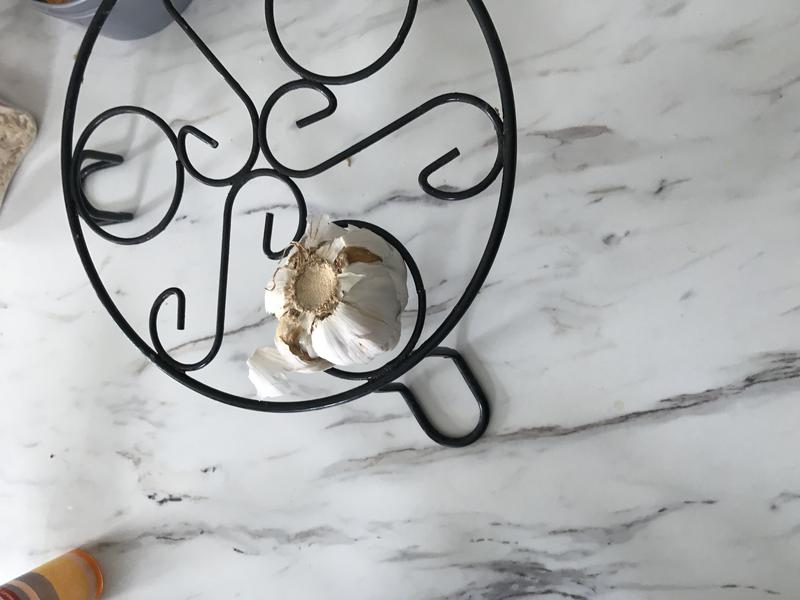garlic: (259, 215, 414, 370)
